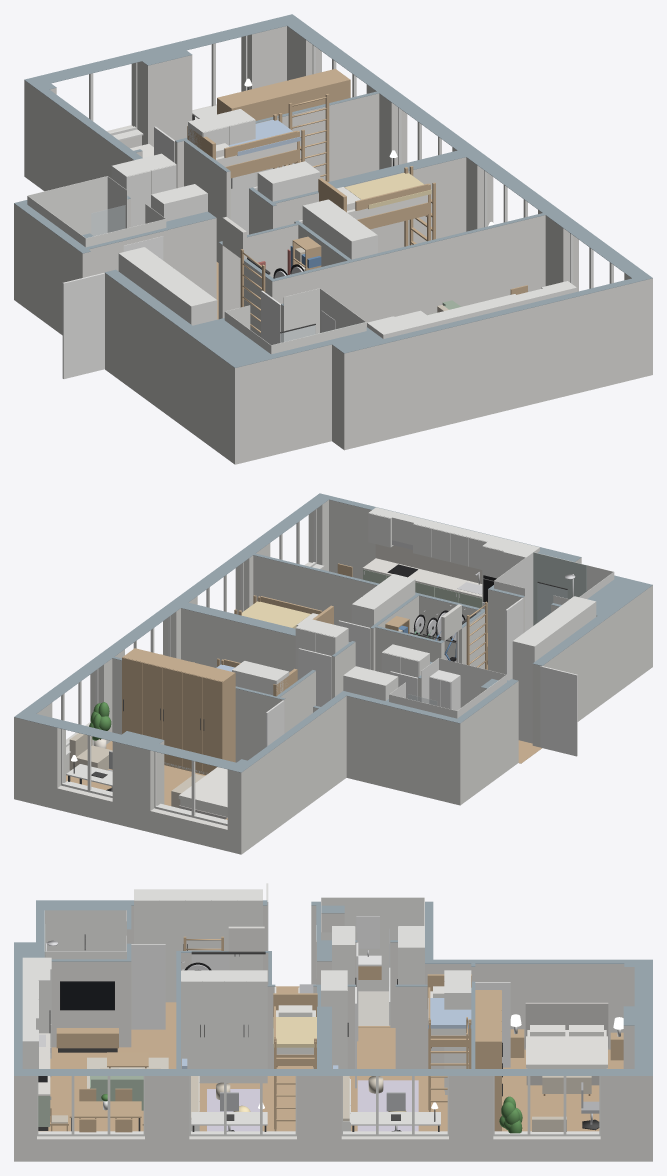
The picture shows the model from 3 angles, top to bottom: view 1: azimuth 30°, elevation 25°; view 2: azimuth 150°, elevation 25°; view 3: azimuth 270°, elevation 25°; orthographic projection. The views are drawn at different scales.
Parts seen in each view (by area): view 1: wall, white, wallcap, oak, tile_wall, white_gloss, linen, bed_yellow, glass, bed_blue, mirror; view 2: wall, white, wallcap, oak, white_gloss, tile_wall, tile_accent, backsplash, linen, fabric_sand, worktop, oak_floor (+5 smaller); view 3: wall, white, wallcap, oak_floor, oak, tile_wall, white_gloss, linen, rug_lilac, fabric_sand, upholstery, screen (+11 smaller).
Boxes of the visible parts, box(x1,y1,x2,y2) form: wall: box(14, 26, 652, 464); white: box(89, 35, 613, 338); wallcap: box(14, 14, 652, 367); oak: box(187, 69, 527, 332); tile_wall: box(27, 176, 366, 354); white_gloss: box(62, 126, 302, 378); linen: box(130, 142, 427, 219); bed_yellow: box(344, 173, 431, 208); glass: box(91, 205, 315, 342); bed_blue: box(229, 120, 300, 155); mirror: box(123, 236, 335, 332); wall: box(14, 500, 652, 854); white: box(61, 507, 596, 825); wallcap: box(14, 493, 652, 772); oak: box(122, 563, 487, 819); white_gloss: box(266, 598, 577, 756); tile_wall: box(389, 552, 614, 718); tile_accent: box(533, 552, 586, 625); backsplash: box(375, 544, 482, 583); linen: box(178, 613, 318, 816); fabric_sand: box(69, 629, 402, 807); worktop: box(362, 558, 482, 598); oak_floor: box(66, 633, 541, 805); wall: box(14, 905, 652, 1161); white: box(22, 889, 600, 1136); wallcap: box(14, 900, 652, 1075); oak_floor: box(38, 986, 623, 1131); oak: box(50, 936, 623, 1132); tile_wall: box(44, 897, 424, 991); white_gloss: box(131, 883, 510, 1088); linen: box(276, 986, 607, 1068); rug_lilac: box(207, 1080, 418, 1131); fabric_sand: box(51, 1068, 591, 1131); upholstery: box(525, 1002, 608, 1085); screen: box(60, 982, 114, 1009).
Bounding box in the file's own units: 10.16 × 2.71 × 14.2.
